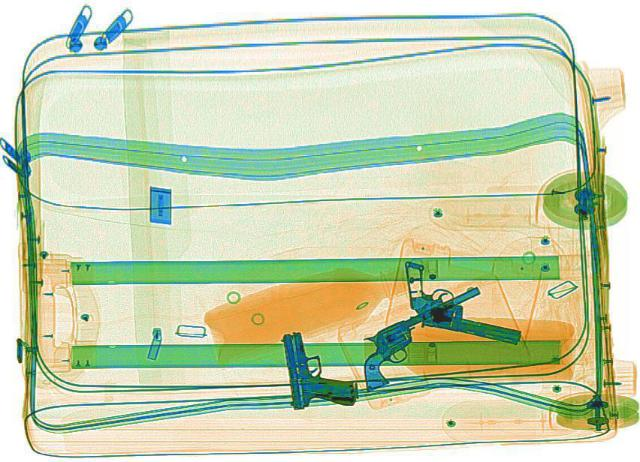Gun: (328, 283, 516, 390), (373, 257, 544, 344), (278, 326, 354, 407)
